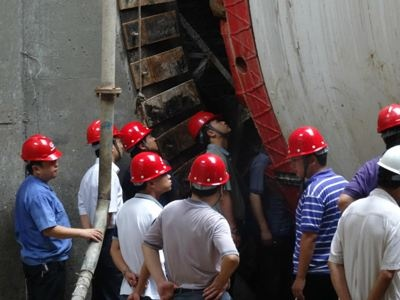red: (285, 124, 330, 178), (187, 149, 228, 203), (127, 149, 173, 195), (19, 133, 61, 183), (84, 117, 124, 162), (187, 107, 232, 144), (119, 119, 159, 154), (373, 99, 400, 142)
white: (372, 145, 400, 197)
